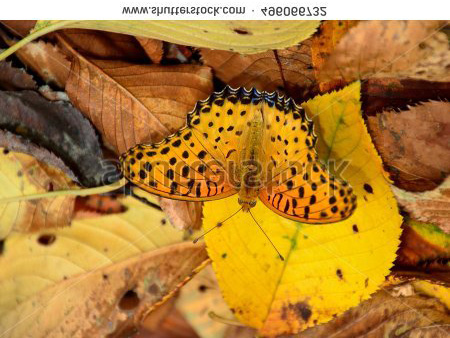Argyreus hyperbius: (114, 80, 362, 261)
butterfly: (112, 78, 360, 259)
